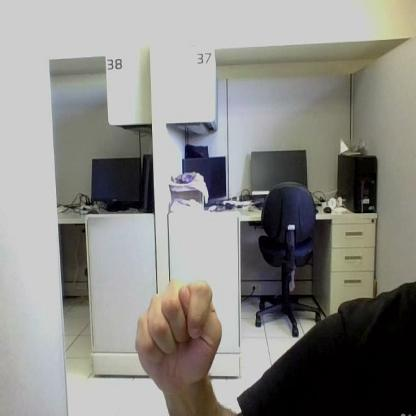T: (135, 280, 221, 393)
